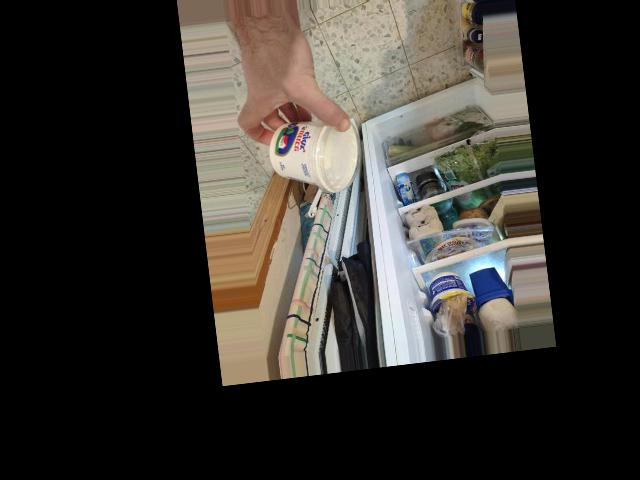cotage: (265, 109, 344, 201)
